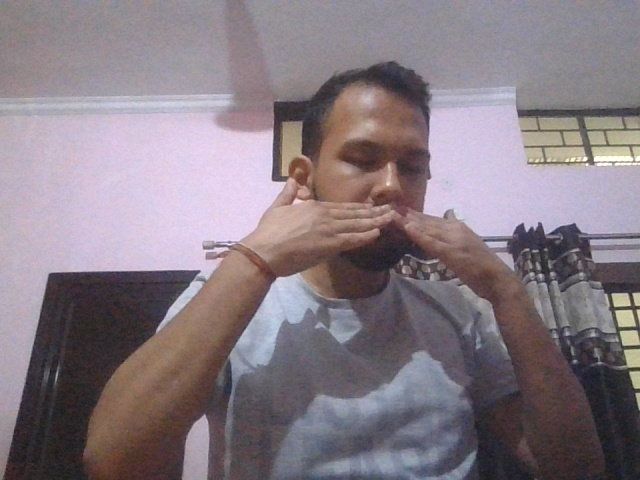thanks: (235, 177, 522, 292)
